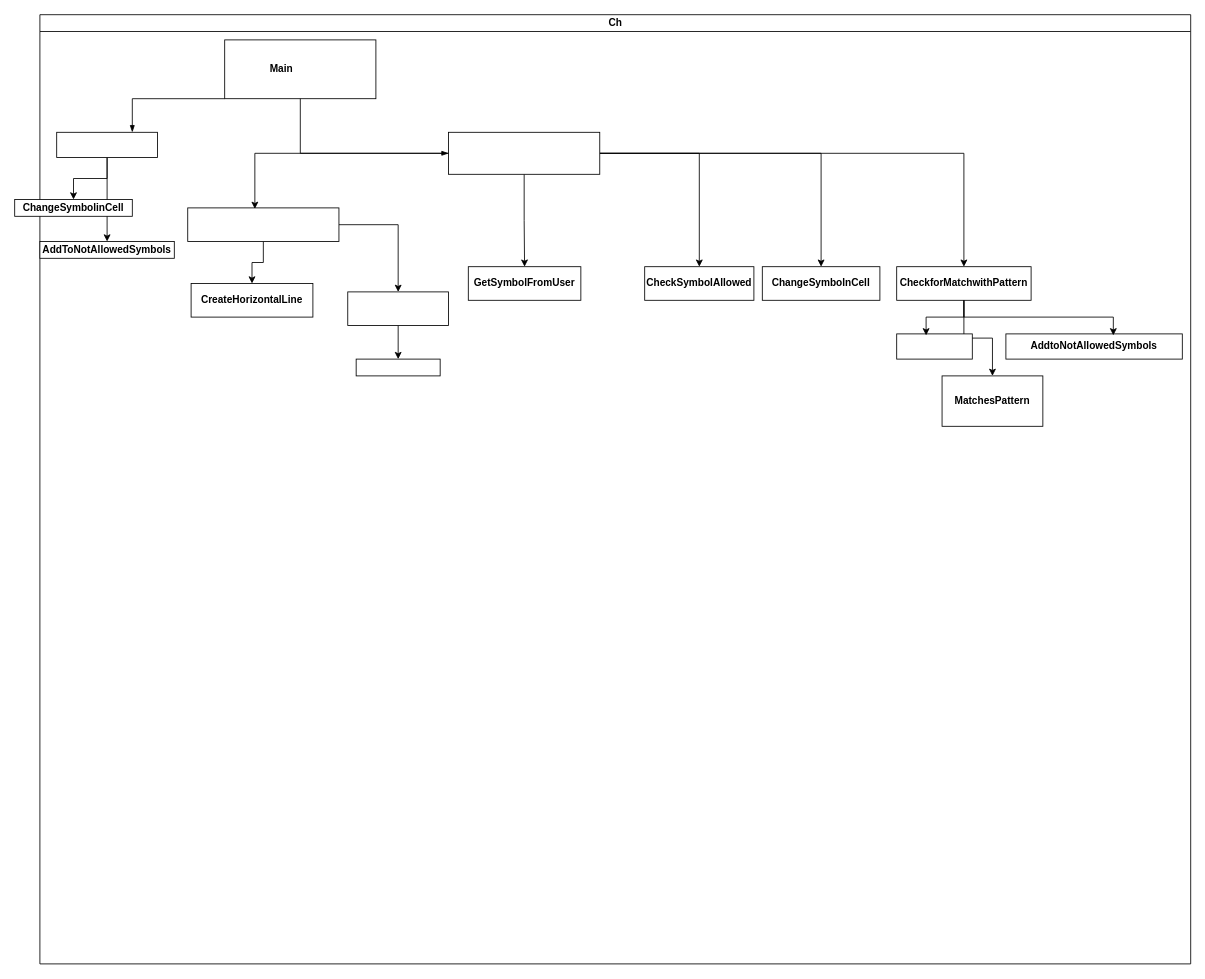
Image size: 1205x979. Some labels were removed from this diagram. The centre of each missing label's shape, as x and y in pixels:
AttemptPuzzle: [524,152]
DisplayPuzzle: [263,224]
GetCell: [934,346]
GetSymbol: [398,308]
IsEmpty: [397,367]
LoadPuzzle: [107,144]
